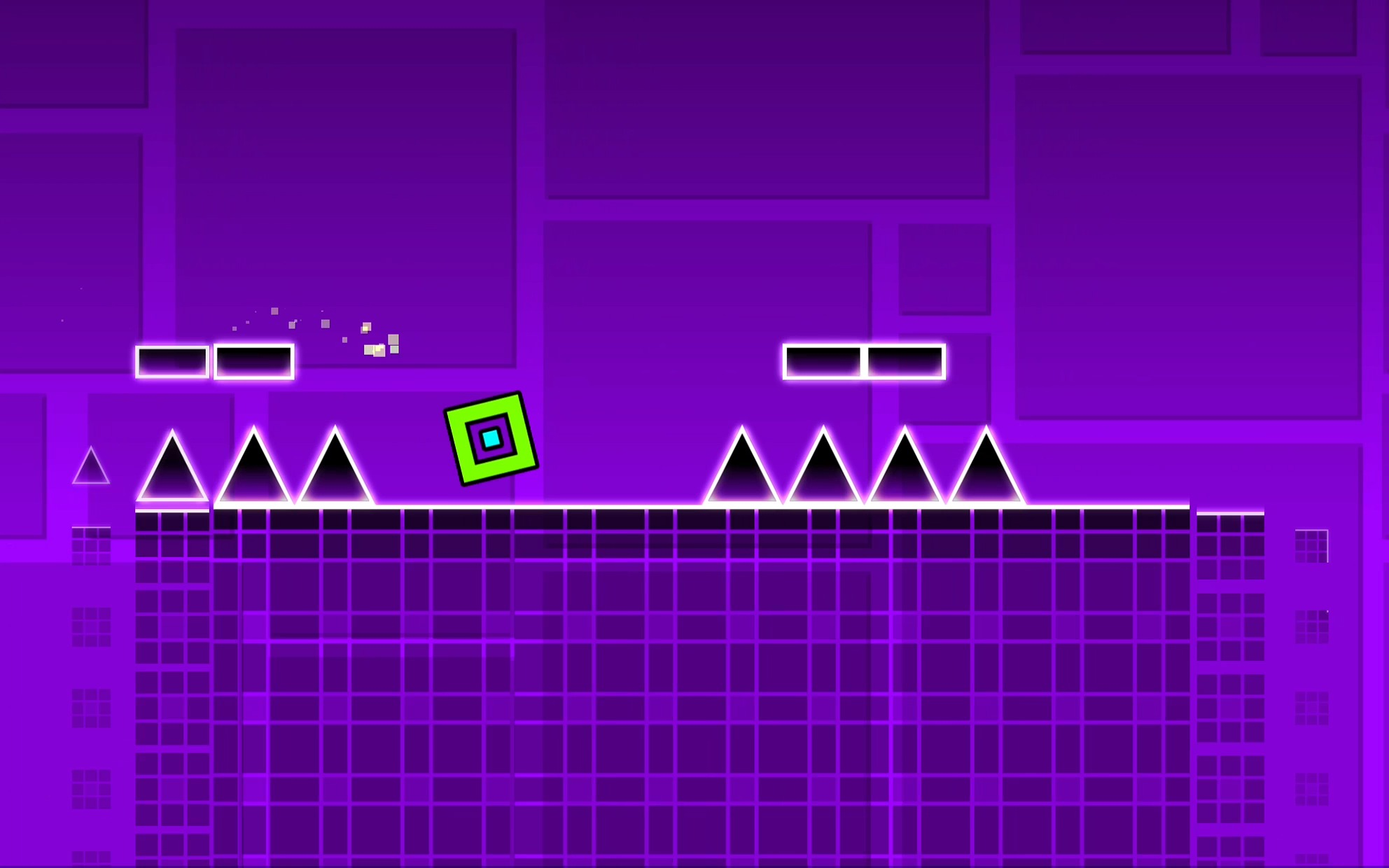Block2: (134, 503, 1274, 868)
Block3: (773, 344, 946, 381), (128, 343, 295, 381)
Player: (444, 391, 538, 484)
Spike: (704, 425, 779, 503), (217, 428, 290, 505), (298, 426, 371, 502), (950, 428, 1022, 503), (789, 426, 859, 502), (870, 427, 941, 501), (137, 429, 207, 501), (73, 447, 111, 484)
